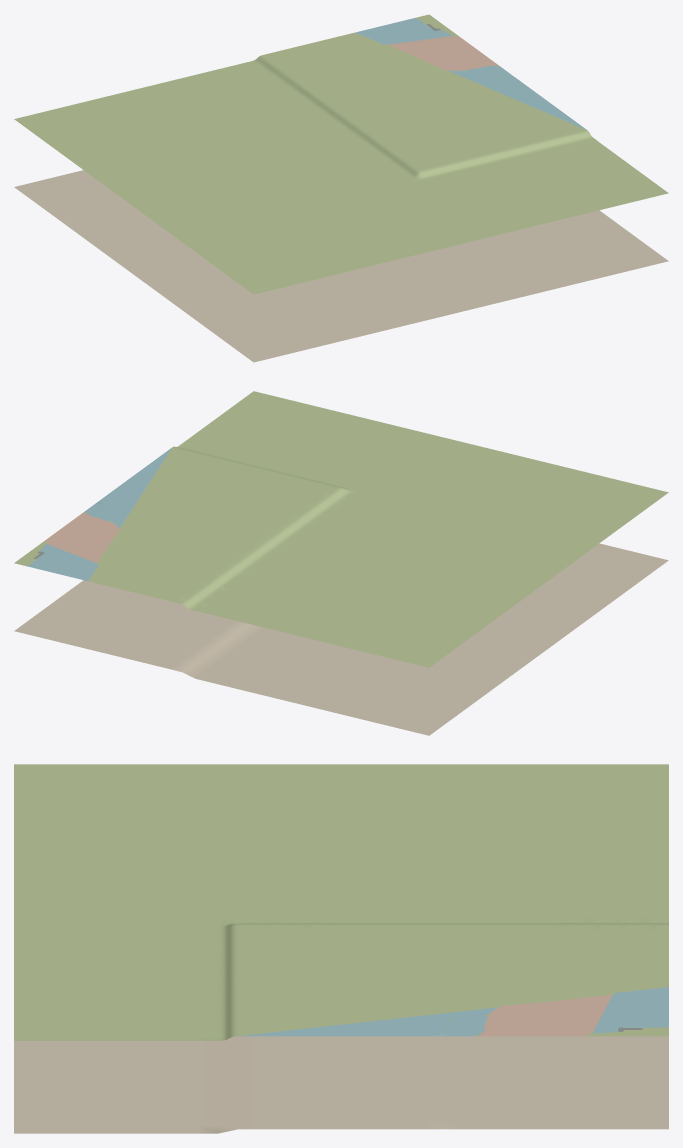
3 renders of one model, top to bottom at view 1: azimuth 30°, elevation 25°; view 2: azimuth 150°, elevation 25°; view 3: azimuth 270°, elevation 25°, orthographic. The views are drawn at different scales.
Parts seen in each view (by area): view 1: s_-2_5__grass, s_-2_5__soil, s_-2_5__blue_paving, s_-2_5__brick_paving; view 2: s_-2_5__grass, s_-2_5__soil, s_-2_5__blue_paving, s_-2_5__brick_paving; view 3: s_-2_5__grass, s_-2_5__soil, s_-2_5__blue_paving, s_-2_5__brick_paving.
Part boxes in pixels (x1=…): s_-2_5__grass: x1=14, y1=14, x2=668, y2=294; s_-2_5__soil: x1=14, y1=170, x2=668, y2=362; s_-2_5__blue_paving: x1=355, y1=18, x2=586, y2=129; s_-2_5__brick_paving: x1=388, y1=36, x2=498, y2=70; s_-2_5__grass: x1=14, y1=391, x2=668, y2=667; s_-2_5__soil: x1=14, y1=543, x2=668, y2=735; s_-2_5__blue_paving: x1=28, y1=448, x2=171, y2=580; s_-2_5__brick_paving: x1=45, y1=512, x2=120, y2=563; s_-2_5__grass: x1=14, y1=764, x2=668, y2=1040; s_-2_5__soil: x1=14, y1=1036, x2=668, y2=1133; s_-2_5__blue_paving: x1=238, y1=987, x2=668, y2=1036; s_-2_5__brick_paving: x1=480, y1=994, x2=612, y2=1036.
Size of the model in its own units: 128 by 21.01 by 128.
